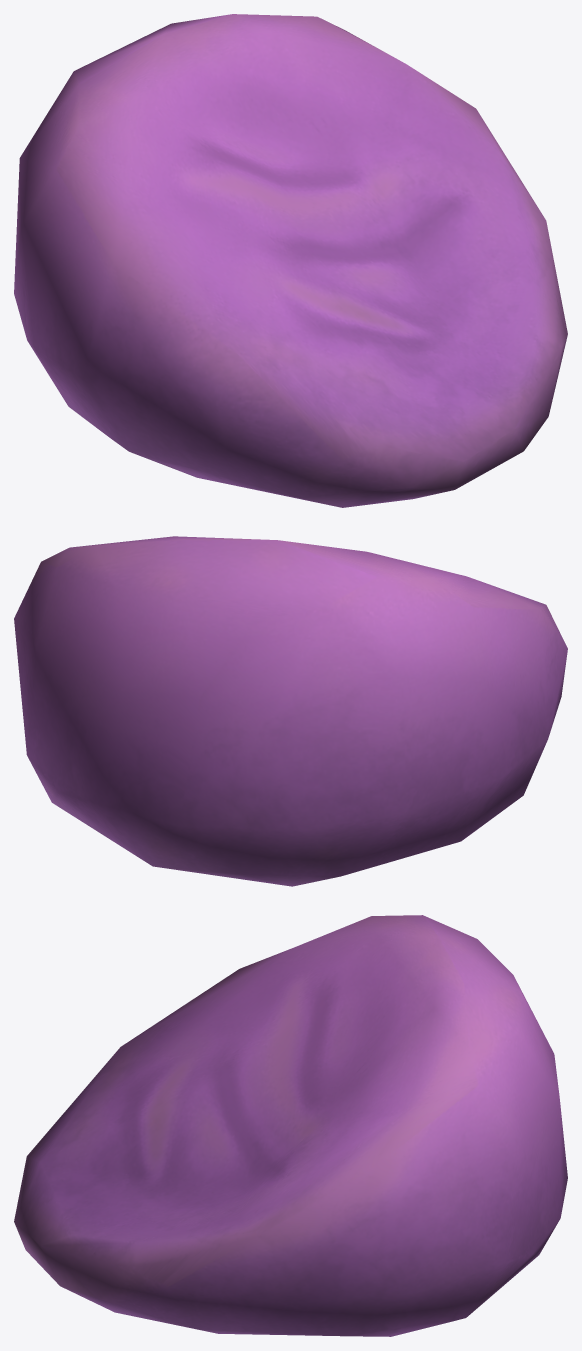
The model's file is SM_ChillBag_purple.glb.
3 renders of one model, top to bottom at view 1: azimuth 30°, elevation 25°; view 2: azimuth 150°, elevation 25°; view 3: azimuth 270°, elevation 25°, orthographic. The views are drawn at different scales.
Parts seen in each view (by area): view 1: SM_ChillBag_purple; view 2: SM_ChillBag_purple; view 3: SM_ChillBag_purple.
Part boxes in pixels (x1=…): SM_ChillBag_purple: x1=14, y1=14, x2=567, y2=507; SM_ChillBag_purple: x1=14, y1=536, x2=567, y2=886; SM_ChillBag_purple: x1=14, y1=915, x2=567, y2=1336.
Size of the model in its own units: 1.07 by 0.7346 by 1.17.
Materials: 1 (1 with a texture image).
